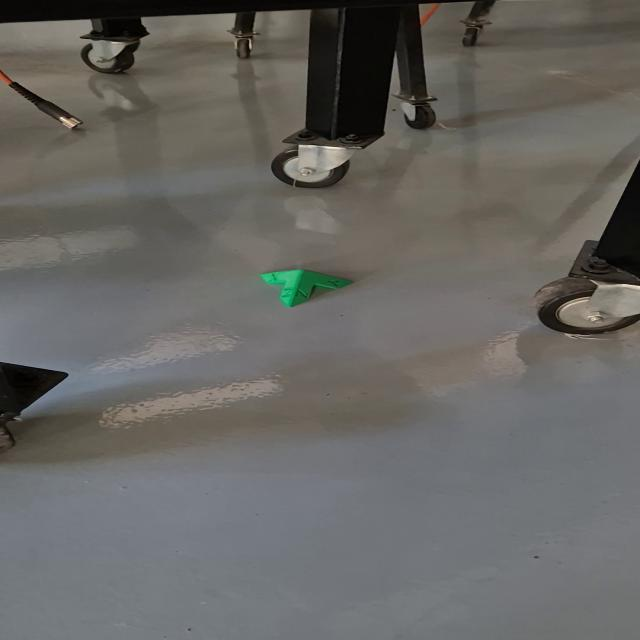objects: (258, 268, 356, 308)
